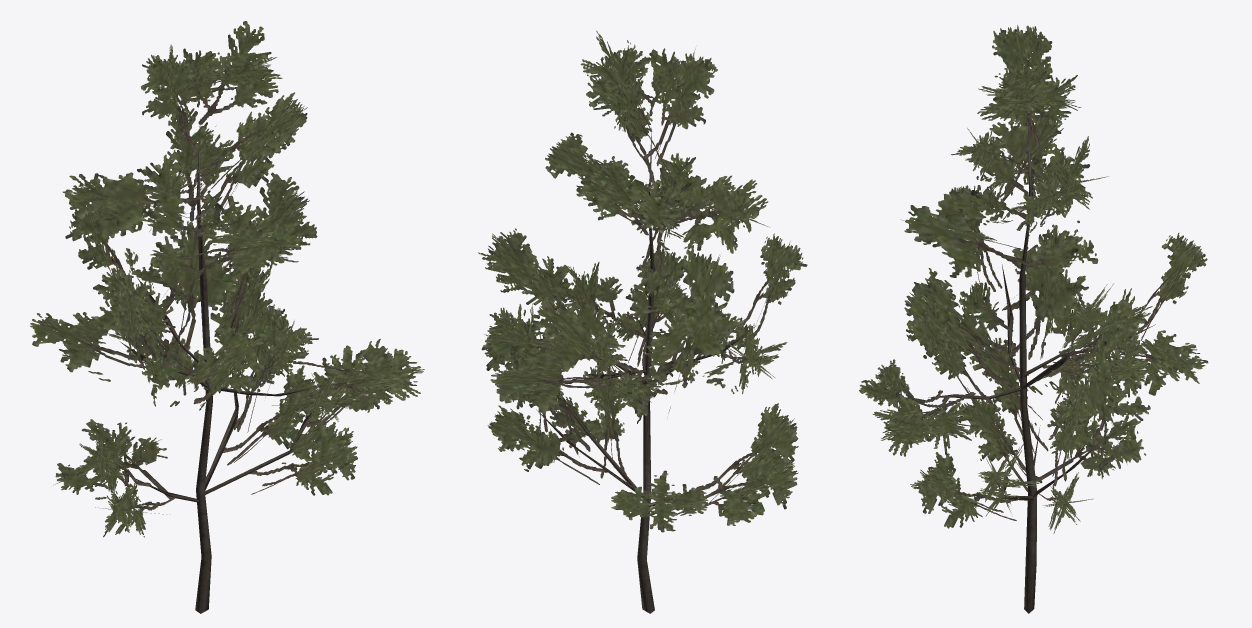
File: pine-sapling-small-far-mobile.glb
3 views of the same model, side by side, from view 1: azimuth 30°, elevation 25°; view 2: azimuth 150°, elevation 25°; view 3: azimuth 270°, elevation 25° (orthographic).
Parts seen in each view (by area): view 1: pine-needle-branches, pine-trunk; view 2: pine-needle-branches, pine-trunk; view 3: pine-needle-branches, pine-trunk.
Part boxes in pixels (bbox=[...]): pine-needle-branches: bbox=[30, 21, 424, 537]; pine-trunk: bbox=[120, 118, 314, 613]; pine-needle-branches: bbox=[478, 30, 807, 532]; pine-trunk: bbox=[536, 128, 755, 613]; pine-needle-branches: bbox=[859, 25, 1208, 533]; pine-trunk: bbox=[928, 125, 1155, 613].
Size of the model in its own units: 0.8588 by 1.32 by 0.8052.
2 materials, 2 textured.
